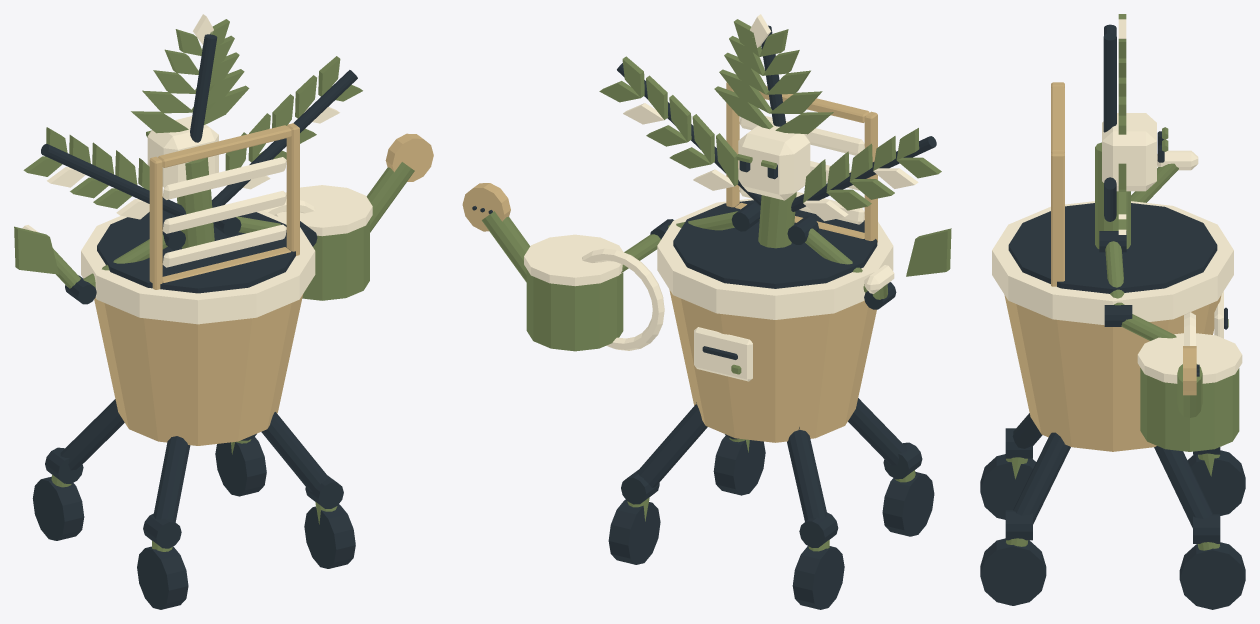
3 renders of one model, left to right at view 1: azimuth 30°, elevation 25°; view 2: azimuth 150°, elevation 25°; view 3: azimuth 270°, elevation 25°, orthographic. The views are drawn at different scales.
Visible parts, largest first — view 1: office_planter, pot_rim, pot_soil, can_body, can_lid, rear_L_wheel, rear_R_wheel, front_L_wheel, front_R_wheel, quiet_face, rear_R_root_stem, rear_L_root_stem (+26 smaller); view 2: office_planter, pot_soil, pot_rim, can_body, quiet_face, can_lid, front_L_wheel, front_R_wheel, rear_L_wheel, rear_R_wheel, pot_badge, watering_handle (+25 smaller); view 3: office_planter, pot_soil, pot_rim, can_body, can_lid, front_R_wheel, rear_R_wheel, quiet_face, front_L_wheel, rear_L_wheel, rear_R_root_stem, front_R_root_stem (+18 smaller).
Part boxes in pixels (bbox=[...]): office_planter: bbox=[94, 294, 302, 445]; pot_rim: bbox=[81, 204, 315, 324]; pot_soil: bbox=[97, 210, 295, 293]; can_body: bbox=[302, 220, 369, 300]; can_lid: bbox=[274, 185, 372, 236]; rear_L_wheel: bbox=[137, 546, 188, 609]; rear_R_wheel: bbox=[304, 504, 355, 568]; front_L_wheel: bbox=[32, 476, 84, 540]; front_R_wheel: bbox=[215, 437, 266, 496]; quiet_face: bbox=[147, 116, 218, 187]; rear_R_root_stem: bbox=[261, 412, 328, 491]; rear_L_root_stem: bbox=[153, 436, 190, 522]; office_planter: bbox=[669, 289, 876, 442]; pot_soil: bbox=[673, 200, 877, 288]; pot_rim: bbox=[657, 198, 893, 319]; can_body: bbox=[526, 269, 623, 351]; quiet_face: bbox=[738, 123, 810, 200]; can_lid: bbox=[524, 234, 622, 286]; front_L_wheel: bbox=[792, 546, 844, 609]; front_R_wheel: bbox=[608, 499, 660, 564]; rear_L_wheel: bbox=[882, 472, 934, 536]; rear_R_wheel: bbox=[713, 435, 765, 495]; pot_badge: bbox=[694, 327, 752, 381]; watering_handle: bbox=[582, 248, 664, 350]; office_planter: bbox=[1004, 295, 1221, 451]; pot_soil: bbox=[1008, 203, 1217, 293]; pot_rim: bbox=[992, 201, 1233, 325]; can_body: bbox=[1140, 368, 1239, 451]; can_lid: bbox=[1137, 333, 1242, 383]; front_R_wheel: bbox=[1179, 542, 1245, 609]; rear_R_wheel: bbox=[980, 538, 1046, 605]; quiet_face: bbox=[1102, 113, 1156, 191]; front_L_wheel: bbox=[1187, 450, 1245, 515]; rear_L_wheel: bbox=[980, 454, 1036, 519]; rear_R_root_stem: bbox=[1013, 432, 1070, 524]; front_R_root_stem: bbox=[1154, 446, 1212, 527].
Size of the model in its own units: 1.94 by 2.19 by 0.966.
